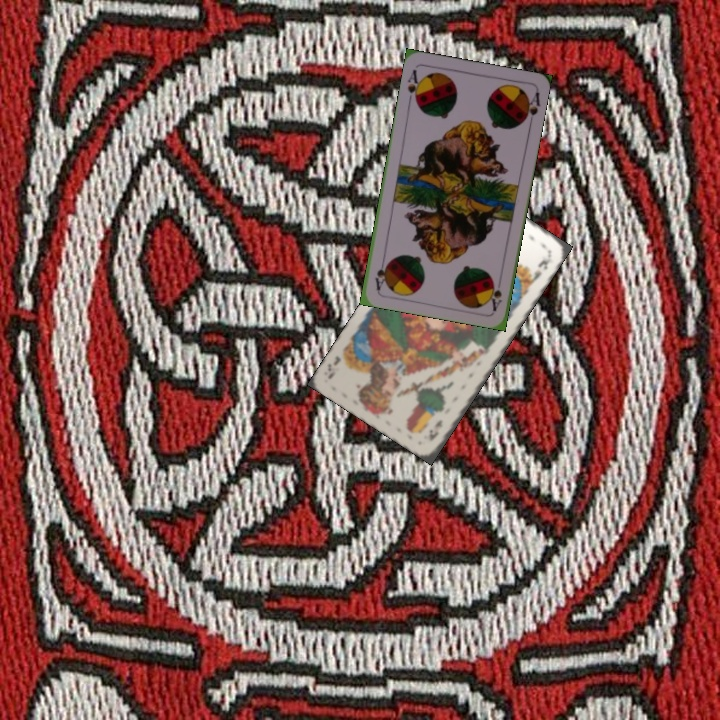EK: (425, 415, 445, 444)
SA: (403, 65, 424, 107), (486, 272, 505, 313)
